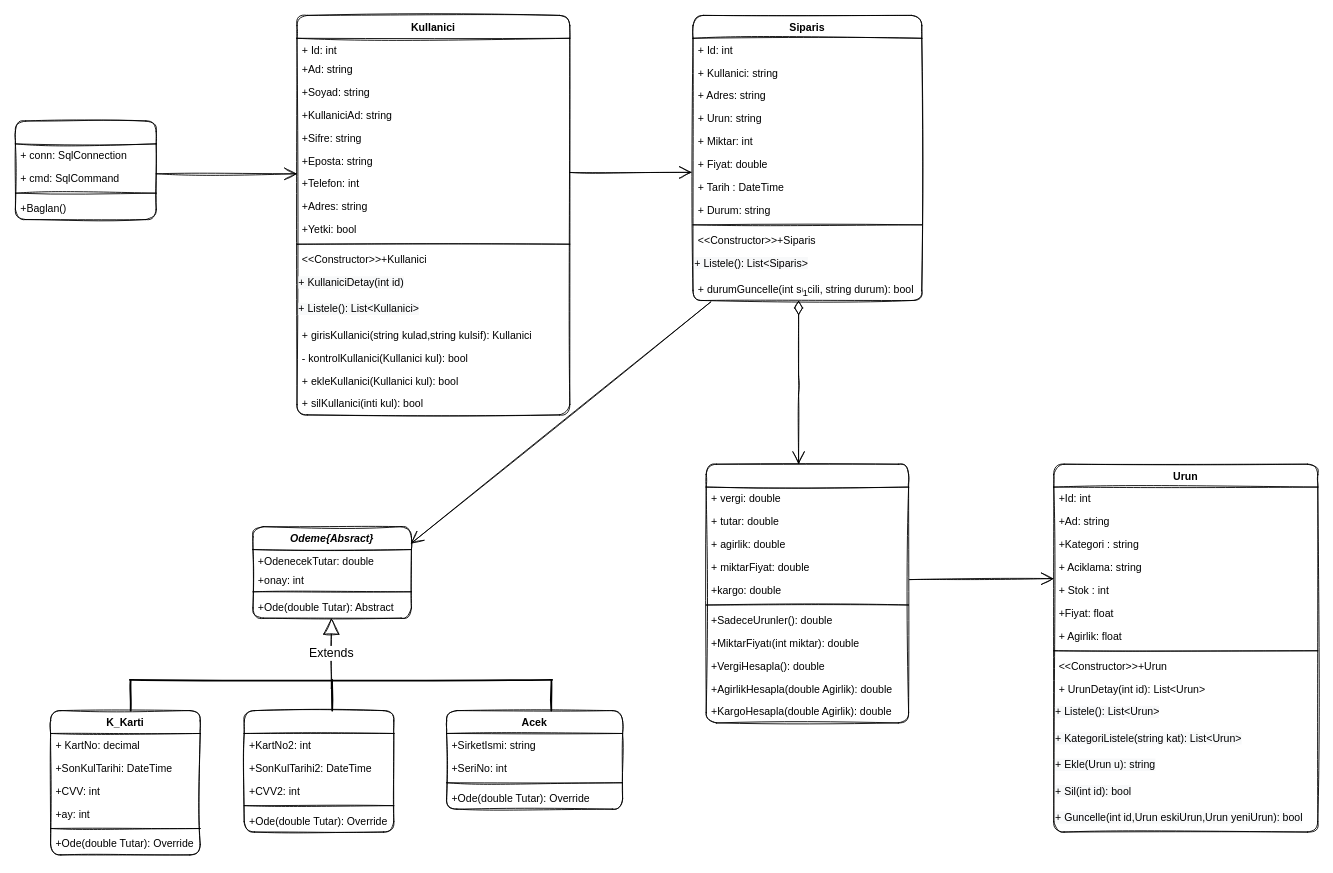
The diagram is 1333 pixels wide and 873 high, and some of its shapes have lost their labels. Here are the shapes that lost their labels. From the top down, the box of each, then its label:
(15, 120, 156, 220): VeriTabani
(705, 463, 909, 723): SiparisDetay
(243, 710, 394, 832): Nakit
